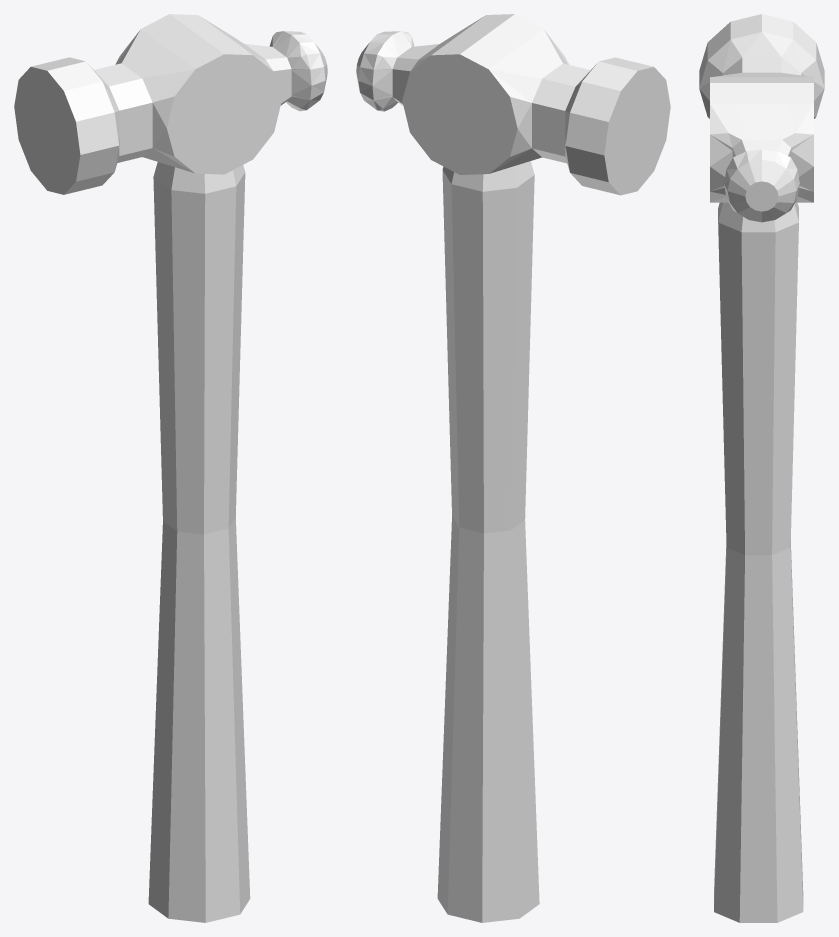
The model's file is Tool_Hammer_02.glb.
3 views of the same model, side by side, from view 1: azimuth 30°, elevation 25°; view 2: azimuth 150°, elevation 25°; view 3: azimuth 270°, elevation 25° (orthographic). The views are drawn at different scales.
Parts seen in each view (by area): view 1: Tool_Hammer_02; view 2: Tool_Hammer_02; view 3: Tool_Hammer_02.
Part boxes in pixels (left/top/right/bottom): Tool_Hammer_02: left=14, top=14, right=327, bottom=922; Tool_Hammer_02: left=356, top=14, right=670, bottom=922; Tool_Hammer_02: left=699, top=14, right=824, bottom=922.
Bounding box in the file's own units: 0.1018 × 0.3102 × 0.043.
1 material, 1 textured.
